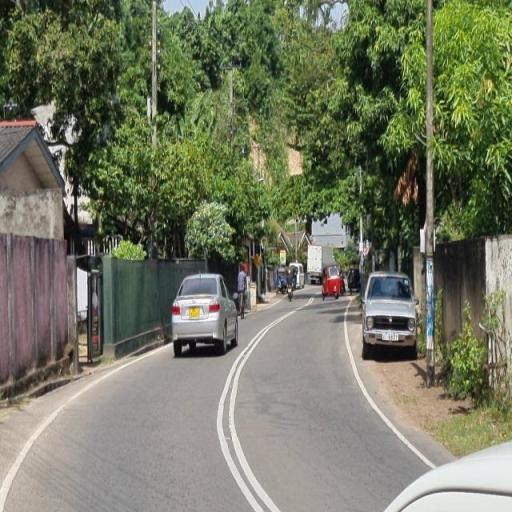double_white_line: (214, 309, 278, 511)
